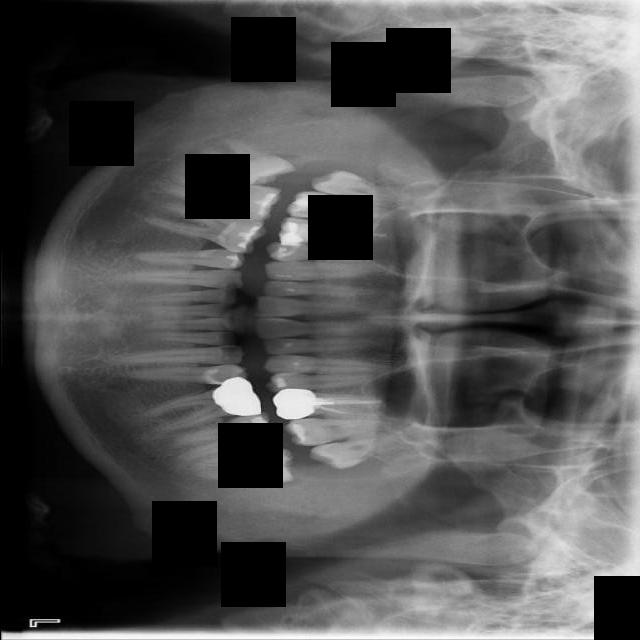3M ESPE Implant: (309, 166, 400, 205)
52: (213, 205, 270, 264), (228, 411, 281, 452), (211, 377, 260, 417), (231, 185, 282, 220), (270, 386, 316, 421), (284, 415, 332, 448), (278, 218, 327, 248), (286, 191, 333, 219), (266, 371, 310, 396), (265, 241, 307, 262), (206, 247, 243, 269)
73: (319, 218, 390, 244)
BioHorizons Implant: (284, 412, 397, 448)
BioLife Implant: (306, 431, 412, 473)
Blue Sky Bio Implant: (172, 410, 282, 463)
Caries: (286, 191, 396, 221), (309, 392, 378, 418)
Implant: (167, 167, 284, 224)
Keystone Dental Implant: (195, 130, 297, 204), (188, 447, 295, 491)
